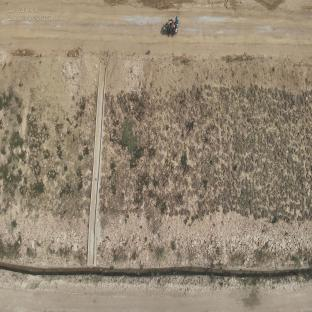rock_toe: (99, 221, 312, 263), (0, 218, 86, 260)
slope_drain: (87, 66, 106, 266)
toe_drain: (0, 260, 312, 278)
